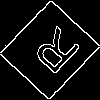R: (25, 25, 83, 84)
